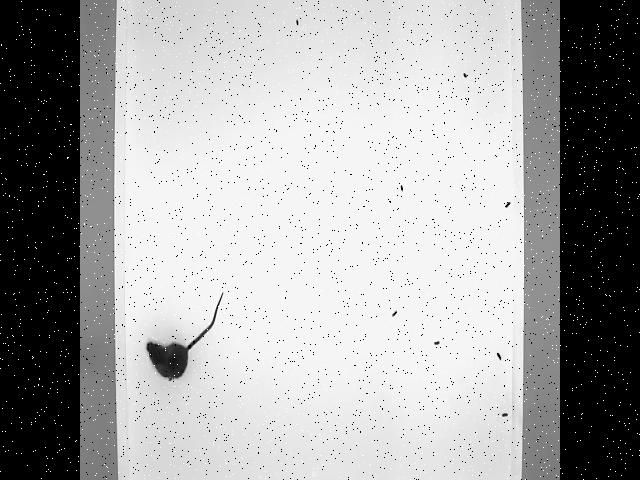Tikus: (143, 292, 223, 380)
